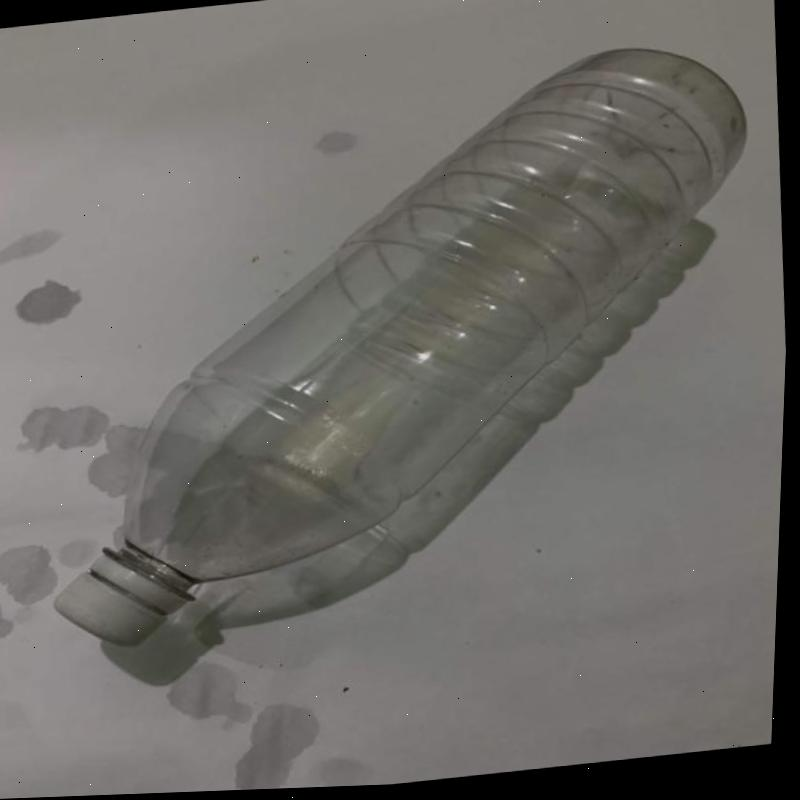botella: (22, 37, 781, 661)
